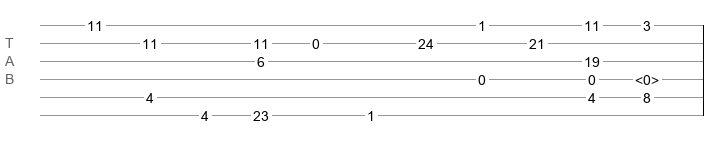0: (312, 36, 320, 46), (478, 72, 486, 82), (588, 72, 596, 82)
1: (367, 108, 375, 118), (478, 18, 486, 28)
11: (87, 18, 103, 28), (142, 36, 158, 46), (253, 36, 269, 46), (584, 18, 600, 28)
19: (584, 54, 600, 64)
21: (529, 36, 545, 46)
23: (253, 108, 269, 118)
24: (418, 36, 434, 46)
3: (643, 18, 651, 28)
4: (146, 90, 154, 100), (201, 108, 209, 118), (588, 90, 596, 100)
6: (257, 54, 265, 64)
8: (643, 90, 651, 100)
harmonic: (635, 72, 659, 82)
